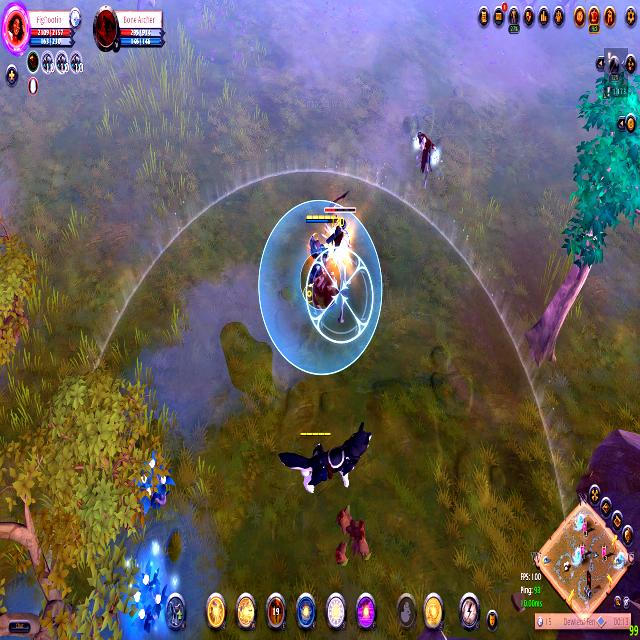hide: (121, 550, 176, 640), (133, 454, 177, 520)
ore: (322, 199, 356, 283), (408, 122, 446, 196)
red: (305, 205, 335, 307)
wisp caged: (524, 58, 640, 380)
